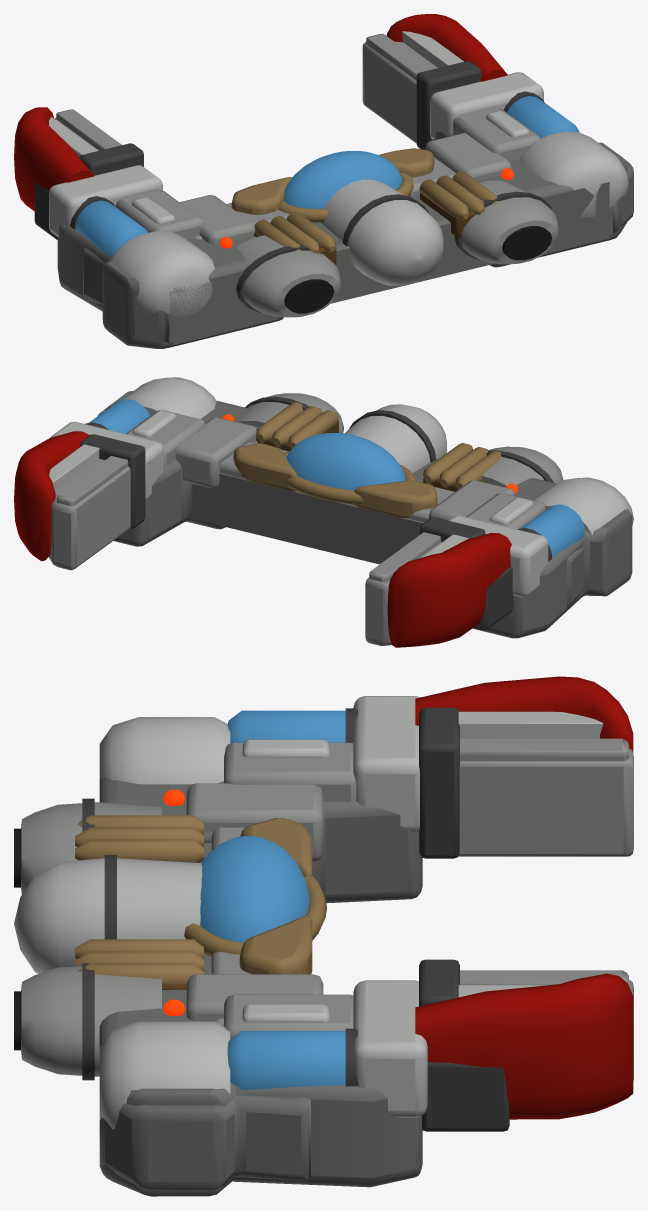
The model's file is store_gun_8.glb.
3 views of the same model, one above another, from view 1: azimuth 30°, elevation 25°; view 2: azimuth 150°, elevation 25°; view 3: azimuth 270°, elevation 25° (orthographic). The views are drawn at different scales.
Visible parts, largest first — view 1: steel_light, steel, steel_mid, glass_blue, gold, red_paint, steel_dark, black, gold_dark; view 2: steel_mid, steel, steel_light, red_paint, gold, glass_blue, steel_dark, gold_dark; view 3: steel_light, steel, steel_mid, red_paint, glass_blue, gold, steel_dark, black.
Part boxes in pixels (x1,y1,x2,y2): steel_light: (49, 31, 628, 316); steel: (54, 33, 559, 317); steel_mid: (57, 131, 633, 348); glass_blue: (75, 96, 579, 257); gold: (231, 148, 498, 253); red_paint: (14, 14, 507, 211); steel_dark: (34, 61, 552, 312); black: (284, 226, 551, 313); gold_dark: (253, 192, 475, 265); steel_mid: (98, 391, 632, 638); steel: (48, 393, 563, 646); steel_light: (49, 377, 633, 597); red_paint: (14, 431, 511, 647); gold: (233, 402, 501, 518); glass_blue: (89, 399, 584, 556); steel_dark: (80, 396, 553, 630); gold_dark: (256, 420, 483, 491); steel_light: (14, 696, 603, 1129); steel: (21, 738, 633, 1080); steel_mid: (99, 776, 422, 1196); red_paint: (415, 676, 633, 1119); glass_blue: (200, 710, 345, 1090); gold: (75, 815, 326, 983); steel_dark: (82, 707, 509, 1131); black: (14, 828, 20, 1050).
Bounding box in the file's own units: 72 × 16 × 49.9.
